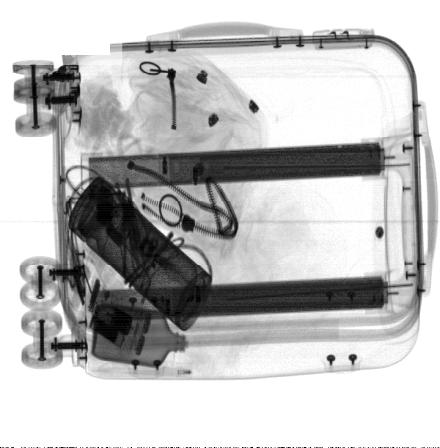Scissors: (88, 130, 145, 274)
